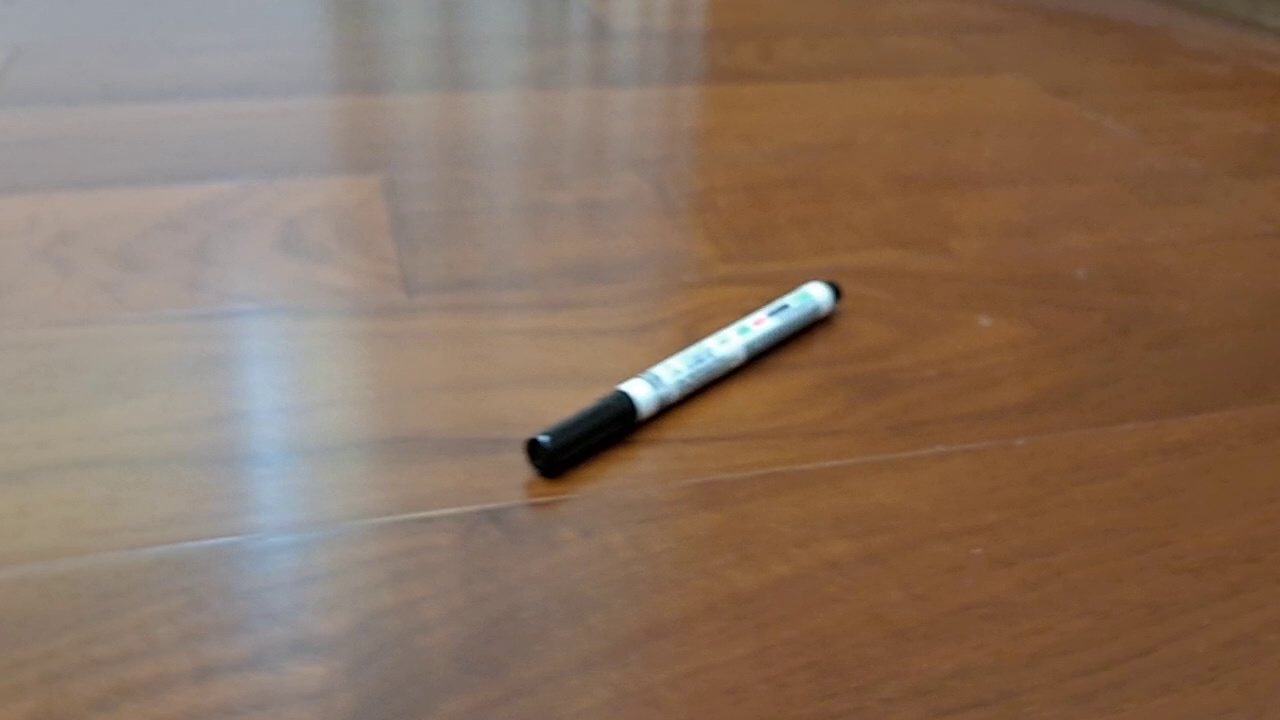pen: (526, 279, 842, 480)
